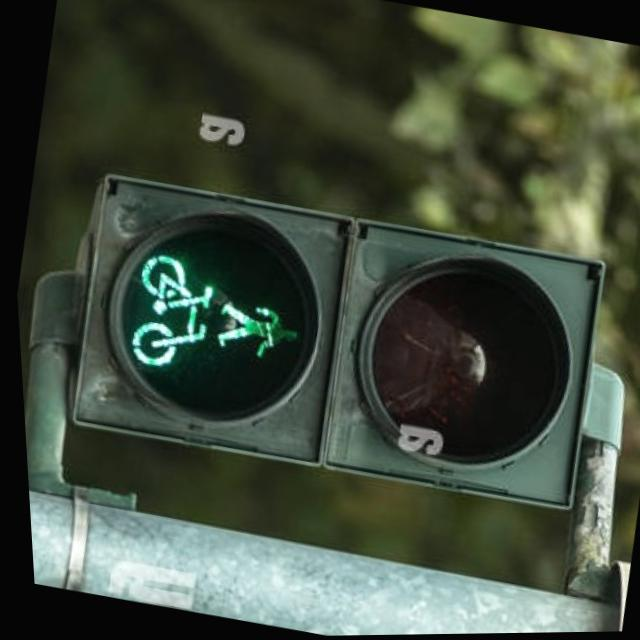green_light: (199, 284, 319, 389)
